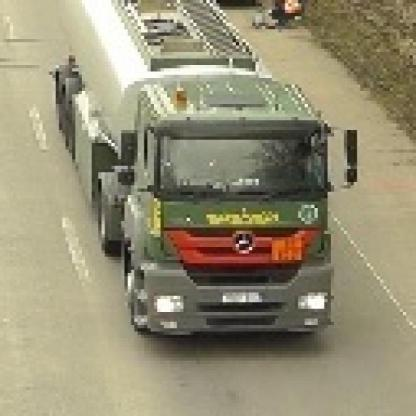truck: (50, 1, 358, 342)
